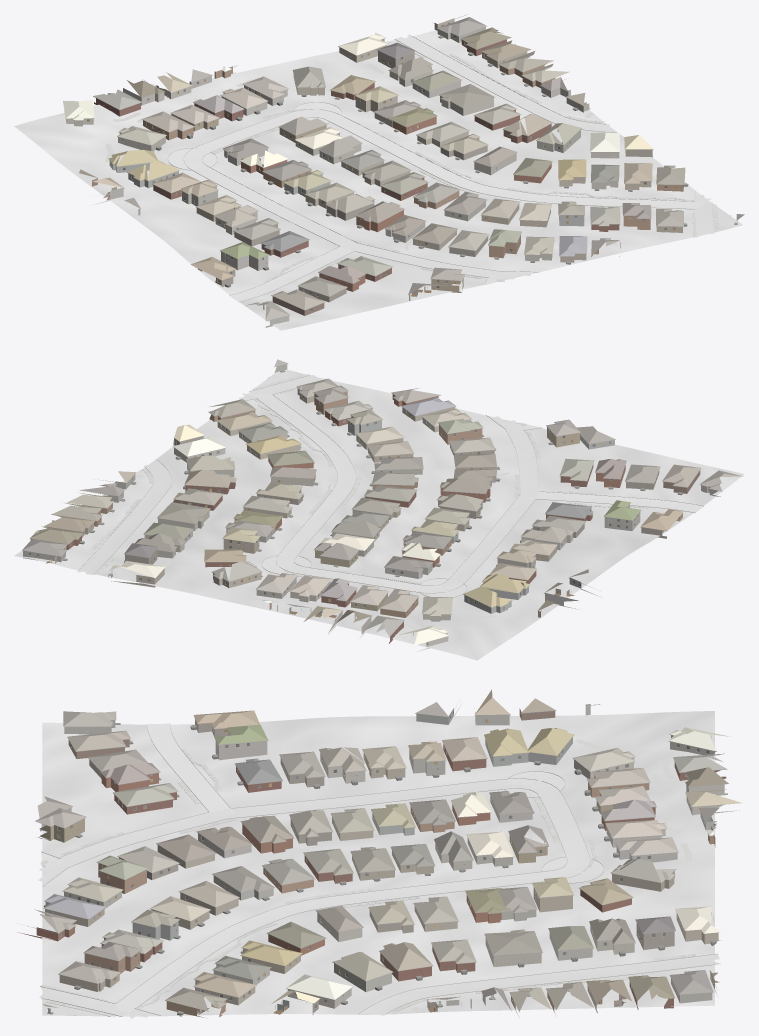
3 renders of one model, top to bottom at view 1: azimuth 30°, elevation 25°; view 2: azimuth 150°, elevation 25°; view 3: azimuth 270°, elevation 25°, orthographic. The views are drawn at different scales.
Visible parts, largest first — view 1: ground, roof, concrete, wall, wall_stucco, detail, curb, walk, wall_stone, glass; view 2: ground, roof, concrete, wall, wall_stucco, detail, walk, curb, wall_stone, glass; view 3: ground, roof, concrete, wall, wall_stucco, detail, curb, walk, wall_stone, glass.
Part boxes in pixels (x1=…): ground: x1=14, y1=30, x2=742, y2=330; roof: x1=63, y1=17, x2=744, y2=320; concrete: x1=168, y1=34, x2=714, y2=301; wall: x1=92, y1=39, x2=683, y2=315; wall_stucco: x1=66, y1=18, x2=651, y2=300; detail: x1=66, y1=14, x2=737, y2=321; curb: x1=167, y1=36, x2=714, y2=302; walk: x1=105, y1=45, x2=718, y2=282; wall_stone: x1=93, y1=76, x2=570, y2=327; glass: x1=111, y1=22, x2=667, y2=311; ground: x1=14, y1=369, x2=744, y2=660; roof: x1=22, y1=359, x2=743, y2=645; concrete: x1=77, y1=375, x2=703, y2=596; wall: x1=30, y1=389, x2=700, y2=643; wall_stucco: x1=23, y1=364, x2=614, y2=651; detail: x1=22, y1=363, x2=716, y2=645; walk: x1=90, y1=374, x2=649, y2=628; curb: x1=77, y1=375, x2=703, y2=597; wall_stone: x1=103, y1=476, x2=720, y2=612; glass: x1=28, y1=396, x2=637, y2=645; ground: x1=42, y1=711, x2=714, y2=1016; roof: x1=34, y1=689, x2=742, y2=1011; concrete: x1=38, y1=723, x2=720, y2=1018; wall: x1=19, y1=708, x2=726, y2=1017; wall_stucco: x1=40, y1=705, x2=739, y2=1010; detail: x1=27, y1=704, x2=733, y2=1016; curb: x1=40, y1=723, x2=718, y2=1016; walk: x1=41, y1=739, x2=696, y2=1017; wall_stone: x1=64, y1=704, x2=716, y2=1008; glass: x1=58, y1=711, x2=716, y2=1008.
Size of the model in its own units: 277 by 17.68 by 272.
